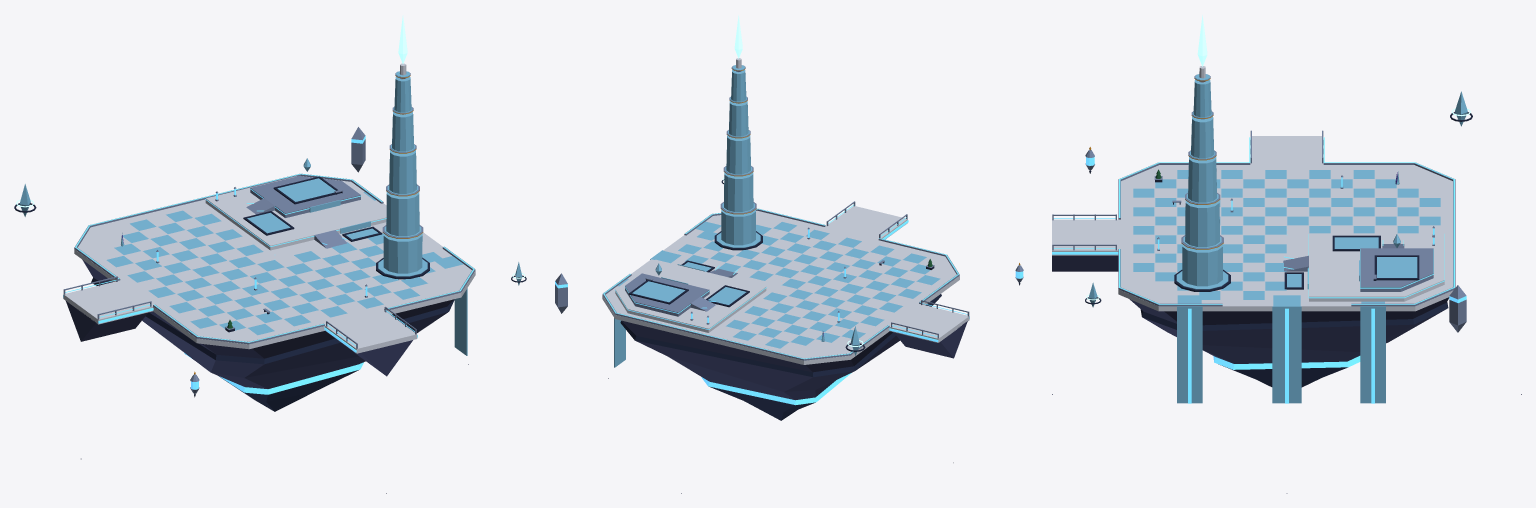
File: chunk_aether_springs.fbx
3 renders of one model, left to right at view 1: azimuth 30°, elevation 25°; view 2: azimuth 150°, elevation 25°; view 3: azimuth 270°, elevation 25°, orthographic. The views are drawn at different scales.
Parts seen in each view (by area): view 1: chunk_aether_springs; view 2: chunk_aether_springs; view 3: chunk_aether_springs.
Boxes of the visible parts, x1,y1,x2,y2 form: chunk_aether_springs: (14, 15, 526, 493); chunk_aether_springs: (555, 15, 1023, 493); chunk_aether_springs: (1052, 15, 1521, 493).
Bounding box in the file's own units: 256 × 256 × 256.
